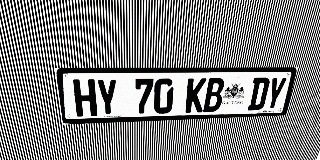0: (153, 78, 174, 114)
7: (134, 78, 154, 115)
B: (203, 78, 225, 112)
D: (247, 77, 271, 110)
H: (73, 79, 97, 117)
K: (185, 78, 207, 113)
Y: (95, 79, 118, 116), (264, 77, 288, 110)
